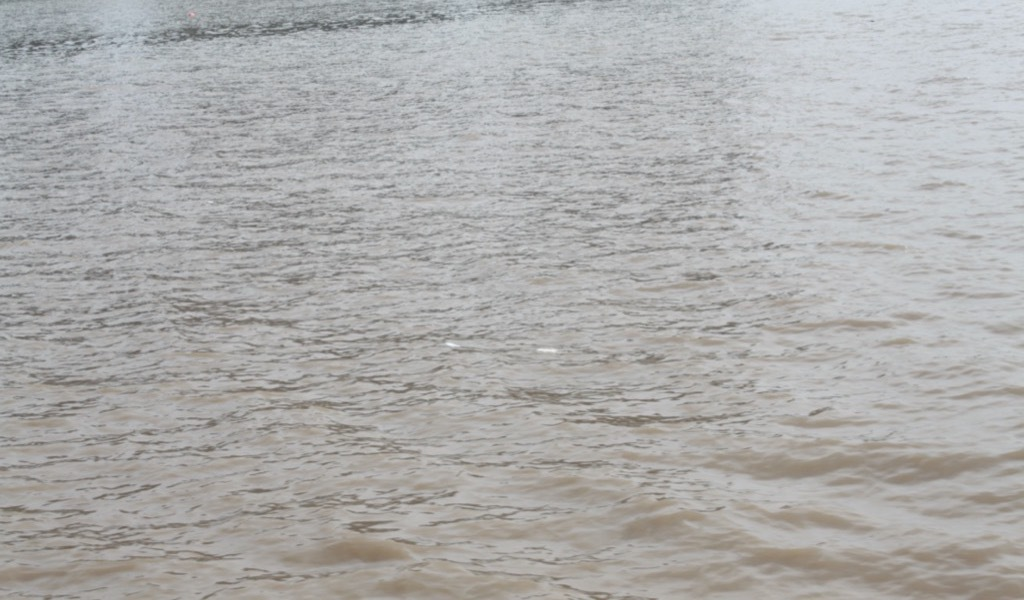plastic: (437, 334, 488, 362), (527, 339, 571, 362)
